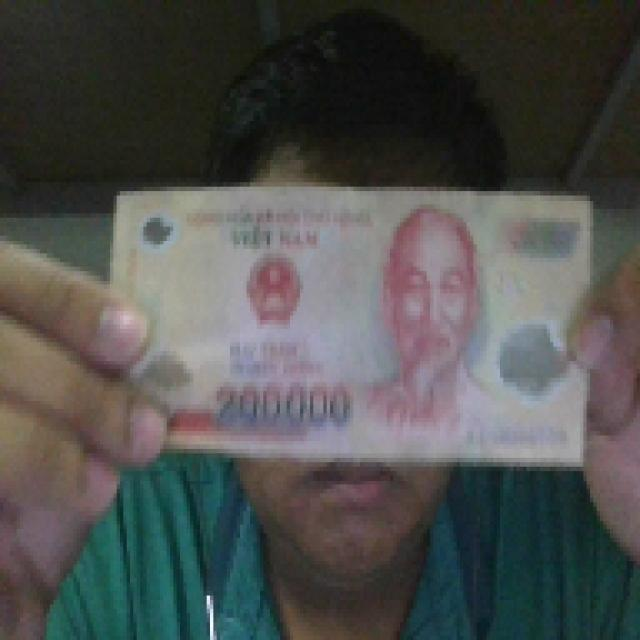200 000 VND: (103, 175, 597, 468)
